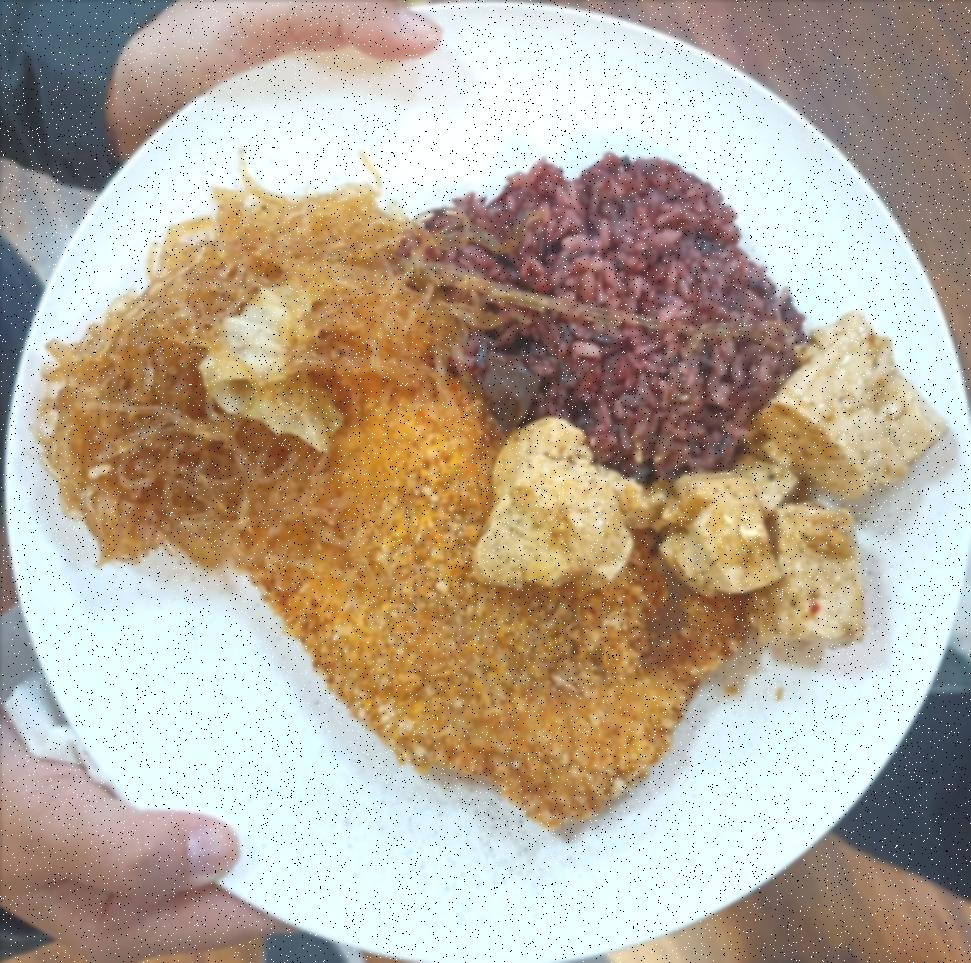chicken steak: (264, 376, 744, 823)
plate: (16, 0, 971, 963)
purple rice: (436, 148, 796, 472)
side dish: (479, 309, 938, 648), (30, 176, 448, 546)
